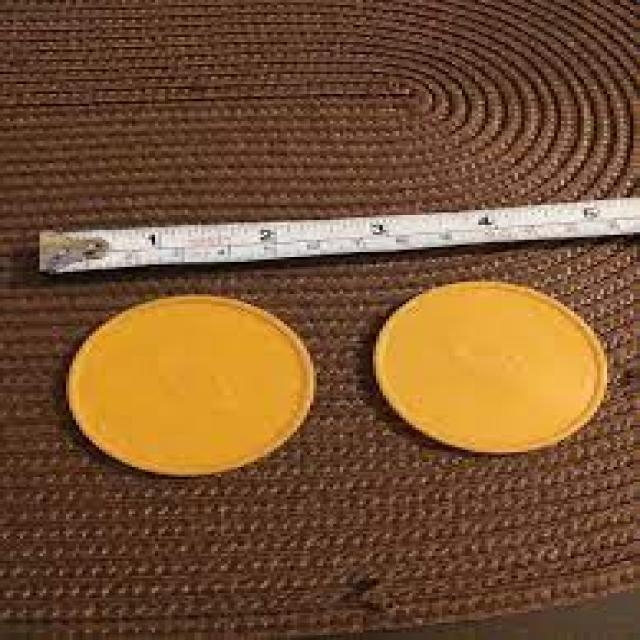chip: (65, 294, 312, 478), (370, 282, 604, 452)
